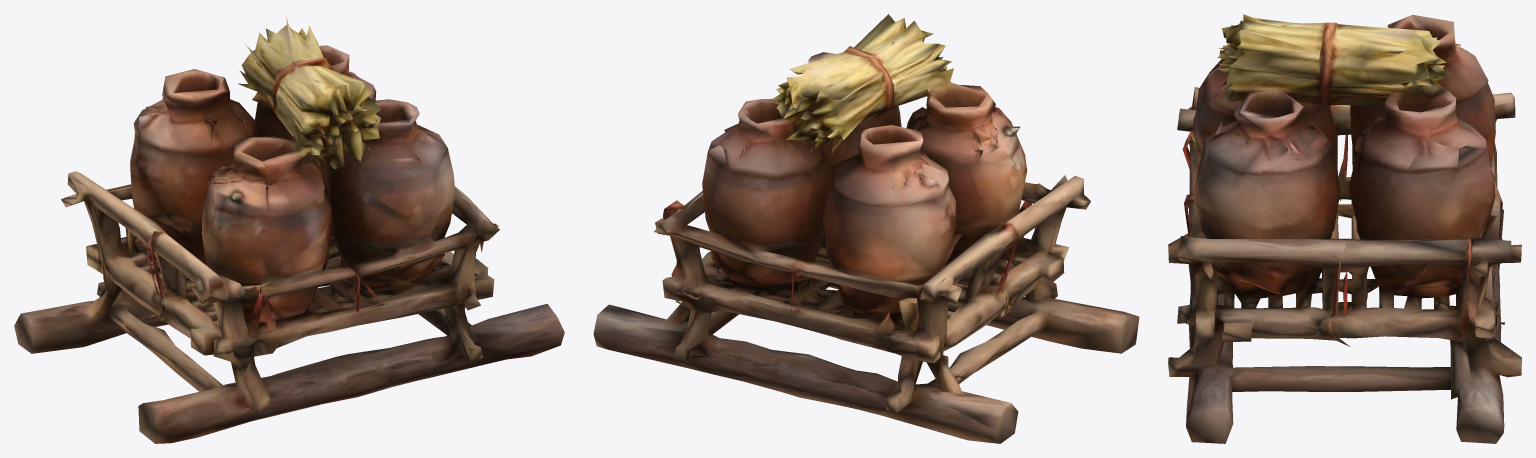
The model's file is anc_sled.glb.
3 views of the same model, side by side, from view 1: azimuth 30°, elevation 25°; view 2: azimuth 150°, elevation 25°; view 3: azimuth 270°, elevation 25° (orthographic). The views are drawn at different scales.
Visible parts, largest first — view 1: tripo_node_49cd5527-5681-4861-a27f-5c3ef8bac060; view 2: tripo_node_49cd5527-5681-4861-a27f-5c3ef8bac060; view 3: tripo_node_49cd5527-5681-4861-a27f-5c3ef8bac060.
Boxes of the visible parts, bbox=[...] form: tripo_node_49cd5527-5681-4861-a27f-5c3ef8bac060: bbox=[14, 15, 564, 443]; tripo_node_49cd5527-5681-4861-a27f-5c3ef8bac060: bbox=[593, 14, 1139, 443]; tripo_node_49cd5527-5681-4861-a27f-5c3ef8bac060: bbox=[1168, 14, 1521, 443].
Size of the model in its own units: 0.9998 by 0.6965 by 0.6855.
1 material, 1 textured.
